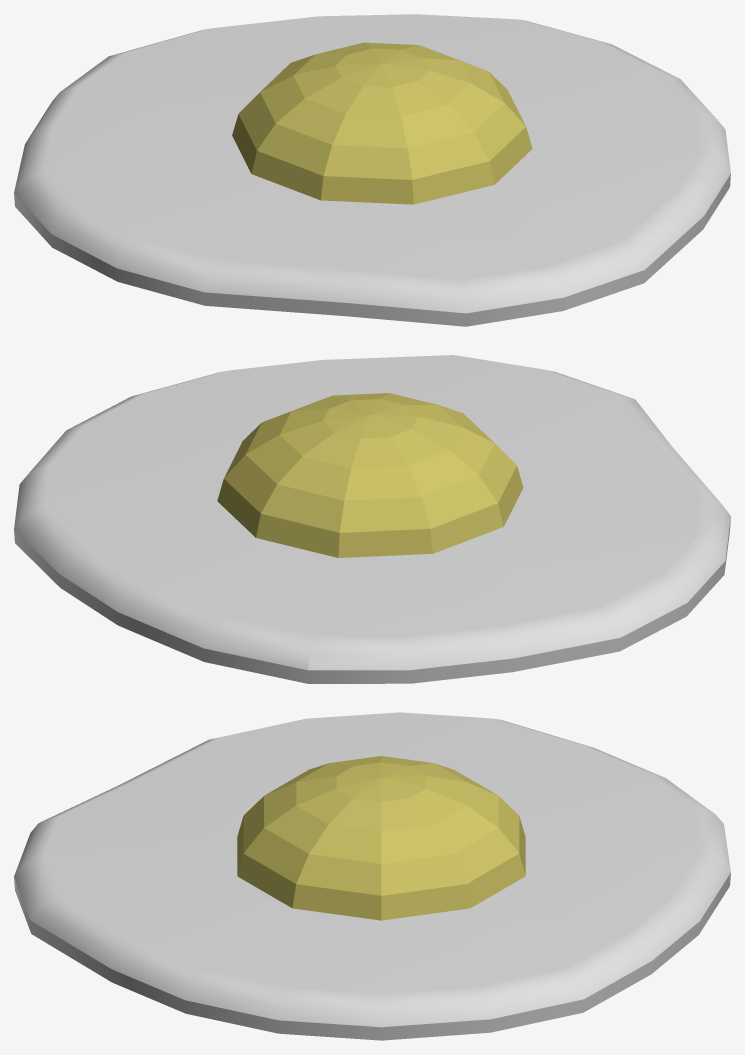
Rendered from RawEgg.fbx.
3 renders of one model, top to bottom at view 1: azimuth 30°, elevation 25°; view 2: azimuth 150°, elevation 25°; view 3: azimuth 270°, elevation 25°, orthographic.
Parts seen in each view (by area): view 1: Whites, Yolk; view 2: Whites, Yolk; view 3: Whites, Yolk.
Part boxes in pixels (x1=…): Whites: x1=14, y1=14, x2=730, y2=326; Yolk: x1=232, y1=42, x2=532, y2=204; Whites: x1=14, y1=355, x2=730, y2=683; Yolk: x1=217, y1=393, x2=523, y2=557; Whites: x1=14, y1=712, x2=730, y2=1040; Yolk: x1=237, y1=756, x2=525, y2=920.
Bounding box in the file's own units: 4.76 × 0.8185 × 4.7.
